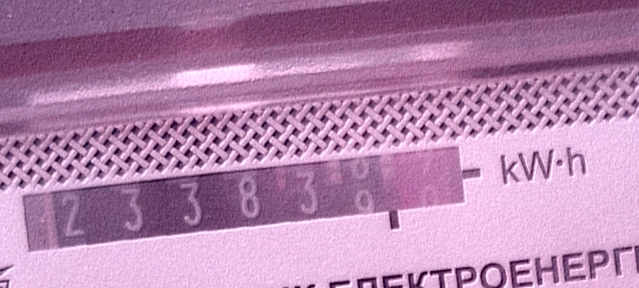0: (419, 182, 444, 210)
2: (59, 191, 89, 240)
3: (175, 178, 209, 230), (117, 183, 150, 235), (294, 168, 323, 216)
8: (234, 173, 266, 222), (349, 154, 374, 184)
9: (414, 146, 439, 178), (353, 186, 377, 217)
screen: (10, 133, 490, 275)
